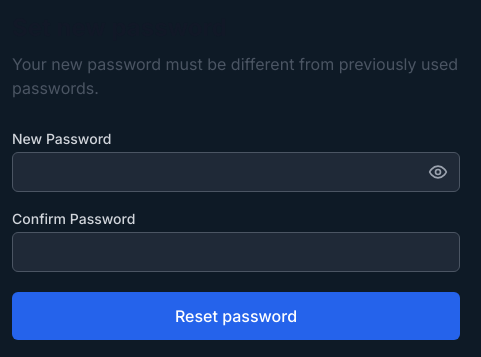
Test: ResetPasswordPage › shows go to login link after success
In the password field labelled "New Password": (236, 172) x1=12 y1=152 x2=460 y2=192, type "NewPassword123!"
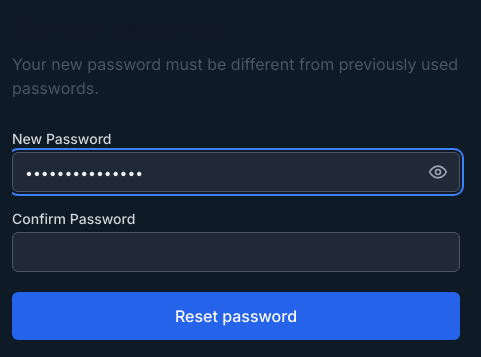
In the password field labelled "Confirm Password": (236, 252) x1=12 y1=232 x2=460 y2=272, type "NewPassword123!"
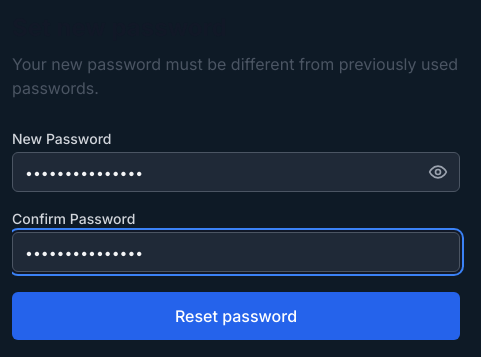
Click the button "Reset password": (236, 316) x1=12 y1=292 x2=460 y2=340
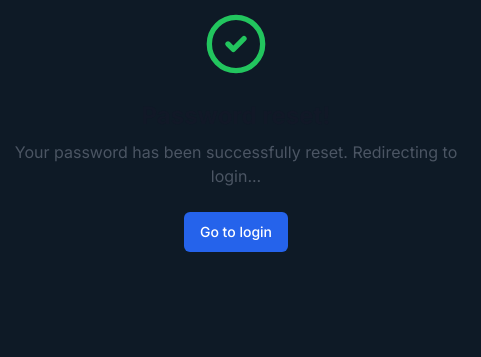
expect the link "Go to login" is shown: met, box x1=184 y1=212 x2=288 y2=252
